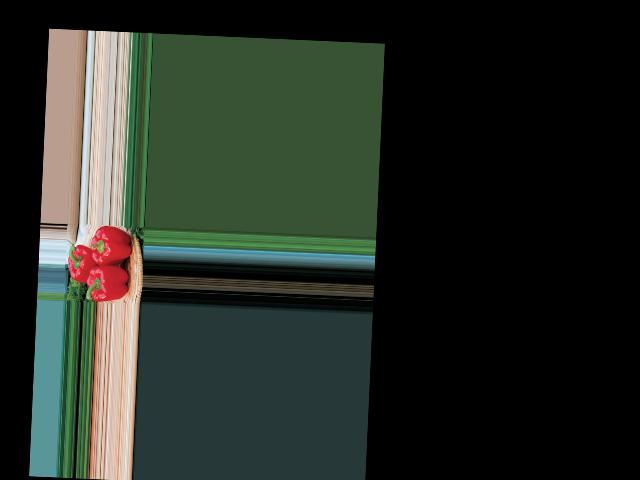bell_pepper: (85, 259, 134, 302)
